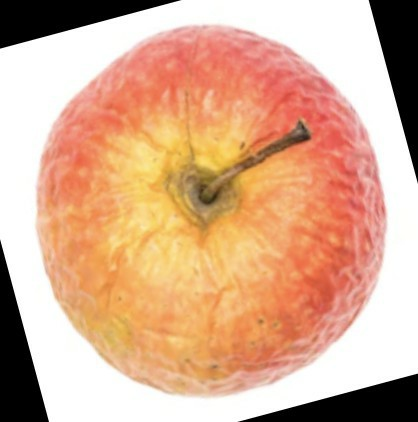rotten_apple: (37, 25, 387, 396)
